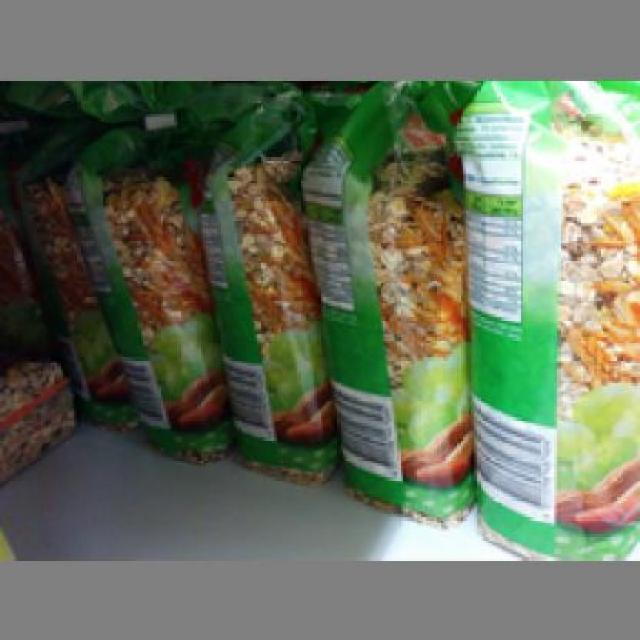Cereal: (448, 77, 638, 557), (297, 77, 472, 526), (192, 117, 334, 486), (60, 128, 209, 454)
